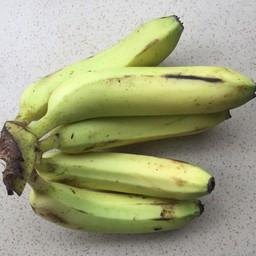Good_banana: (0, 16, 256, 117), (35, 146, 221, 241), (35, 170, 216, 244), (40, 63, 256, 111), (41, 148, 217, 204), (60, 118, 245, 154)
